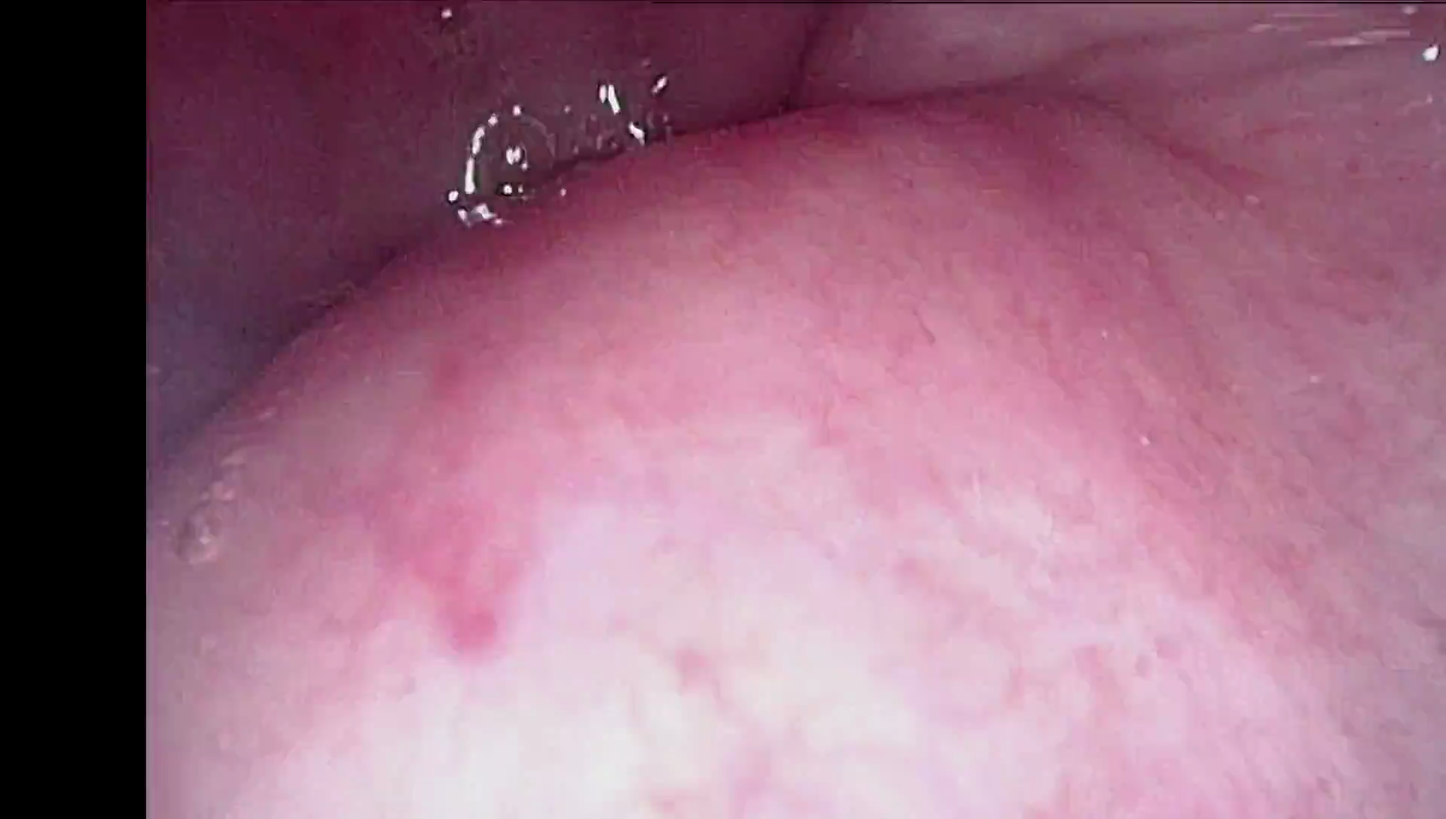close_wall: (282, 367, 1363, 819)
next: (167, 275, 305, 437)
